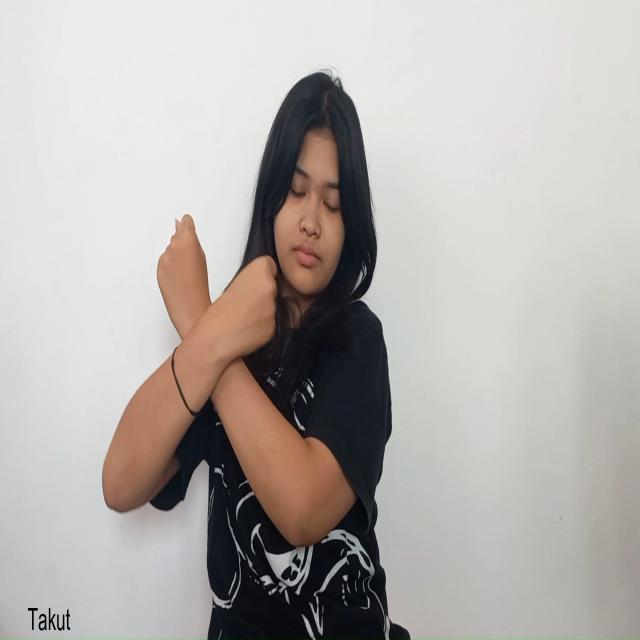Takut -BISINDO-: (153, 209, 280, 424)
